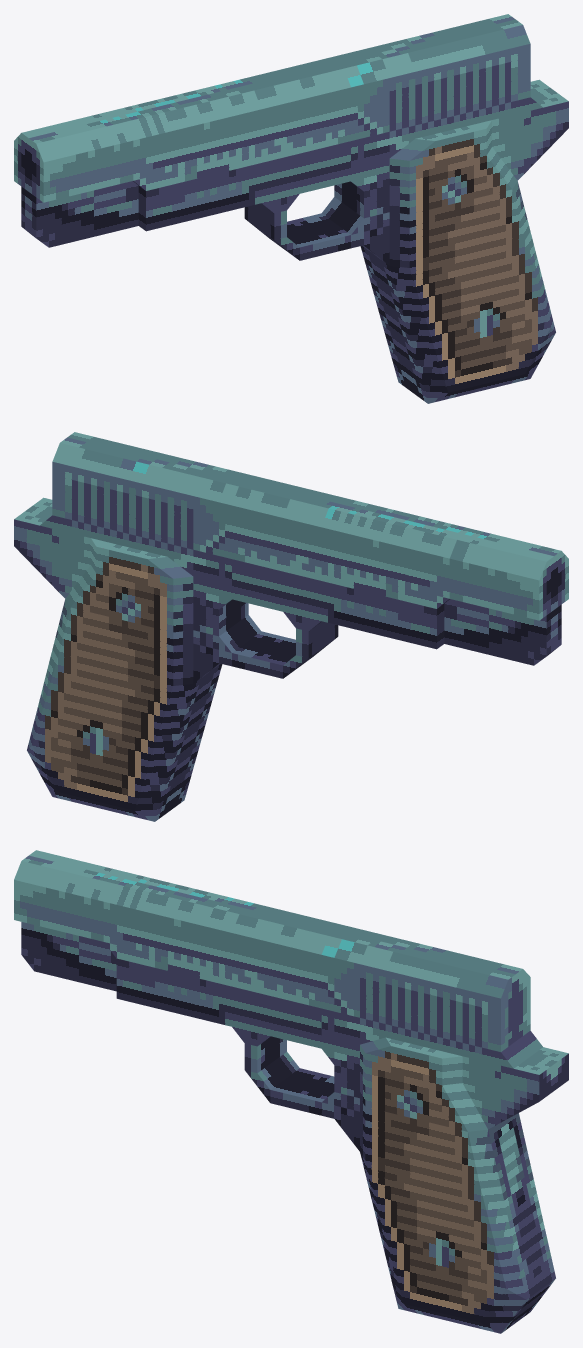
File: 1911_low_poly_pixel_texture.glb
3 views of the same model, one above another, from view 1: azimuth 30°, elevation 25°; view 2: azimuth 150°, elevation 25°; view 3: azimuth 330°, elevation 25° (orthographic).
Visible parts, largest first — view 1: Object_2; view 2: Object_2; view 3: Object_2.
Part boxes in pixels (left/top/right/bottom): Object_2: left=14, top=14, right=568, bottom=403; Object_2: left=14, top=432, right=568, bottom=821; Object_2: left=14, top=850, right=568, bottom=1333.
Bounding box in the file's own units: 4.1 × 2.6 × 0.6.
1 material, 1 textured.
